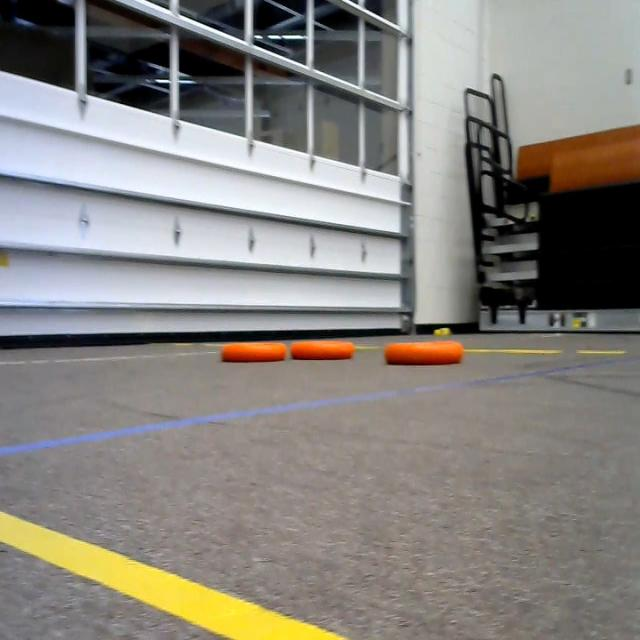note: (383, 338, 472, 369), (219, 333, 287, 367), (287, 336, 361, 360)
